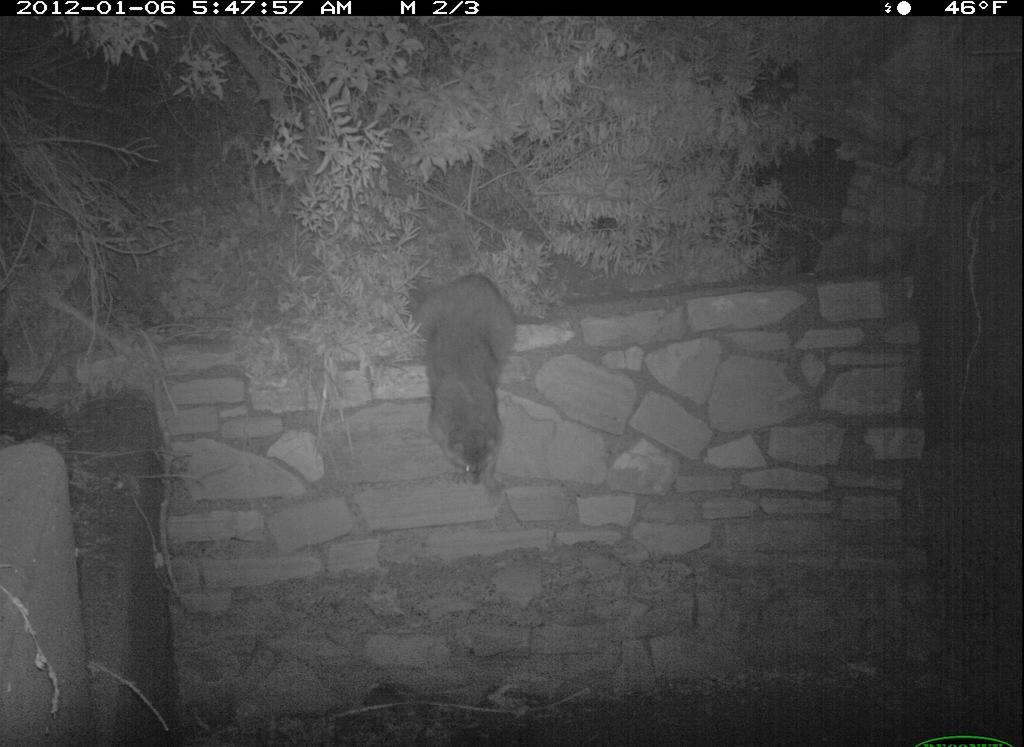raccoon: (401, 259, 521, 500)
